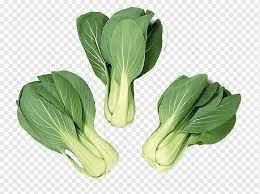Healthy-Pechay: (20, 81, 116, 175), (85, 7, 160, 121), (156, 77, 227, 158)
